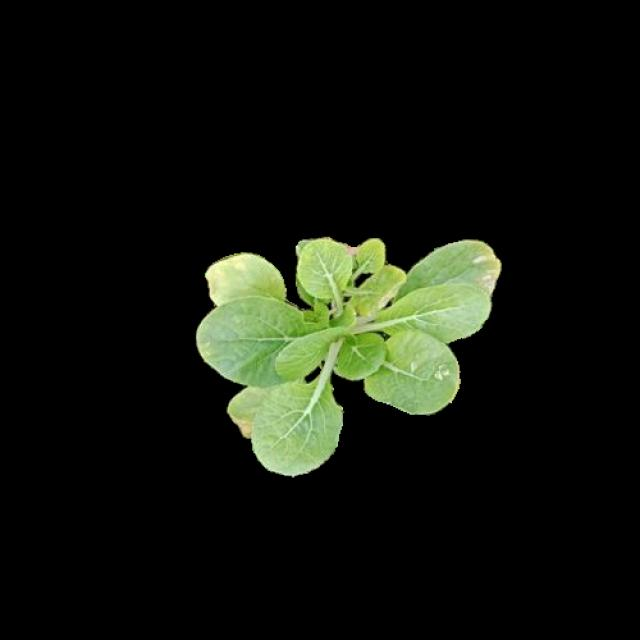not-mature: (197, 235, 501, 472)
unhealthy: (296, 232, 407, 318), (371, 329, 458, 412), (202, 252, 287, 306), (228, 373, 299, 435), (420, 241, 500, 293)
